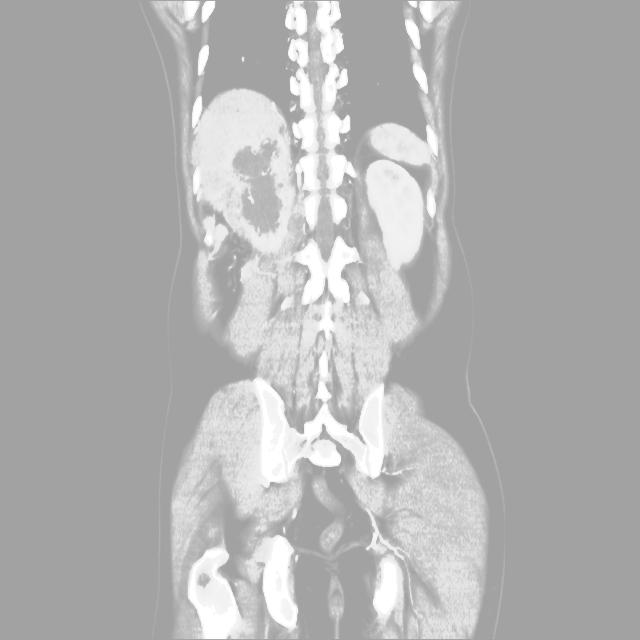TUMOR: (170, 115, 521, 404)
